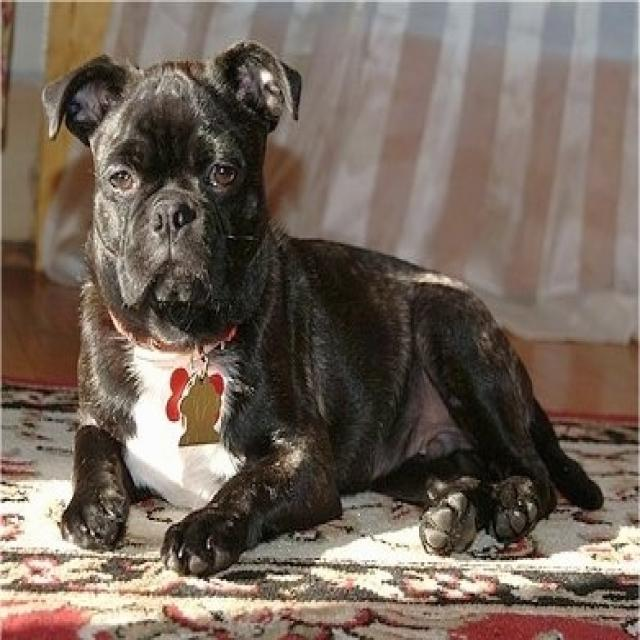dog: (27, 35, 322, 366)
